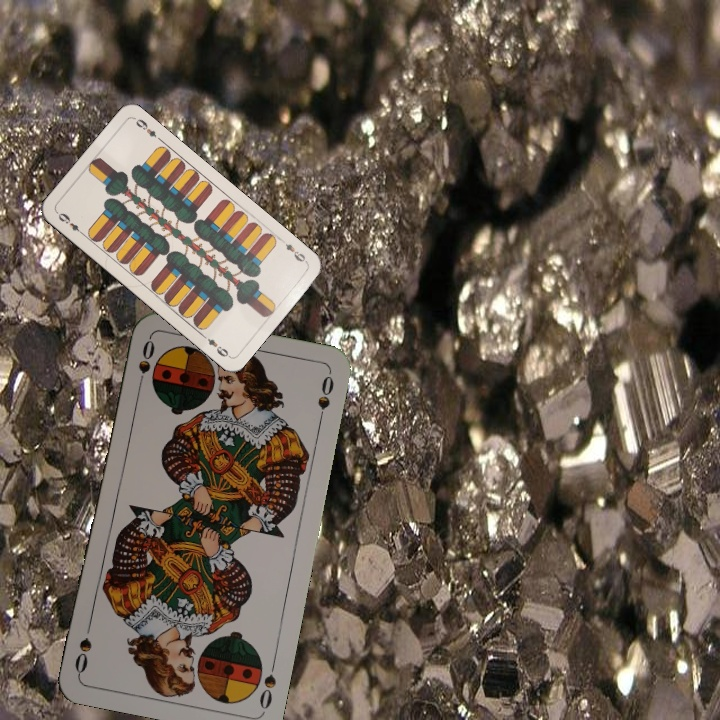E9: (53, 208, 87, 238), (276, 235, 310, 265)
SO: (133, 335, 158, 394), (255, 655, 279, 712)
